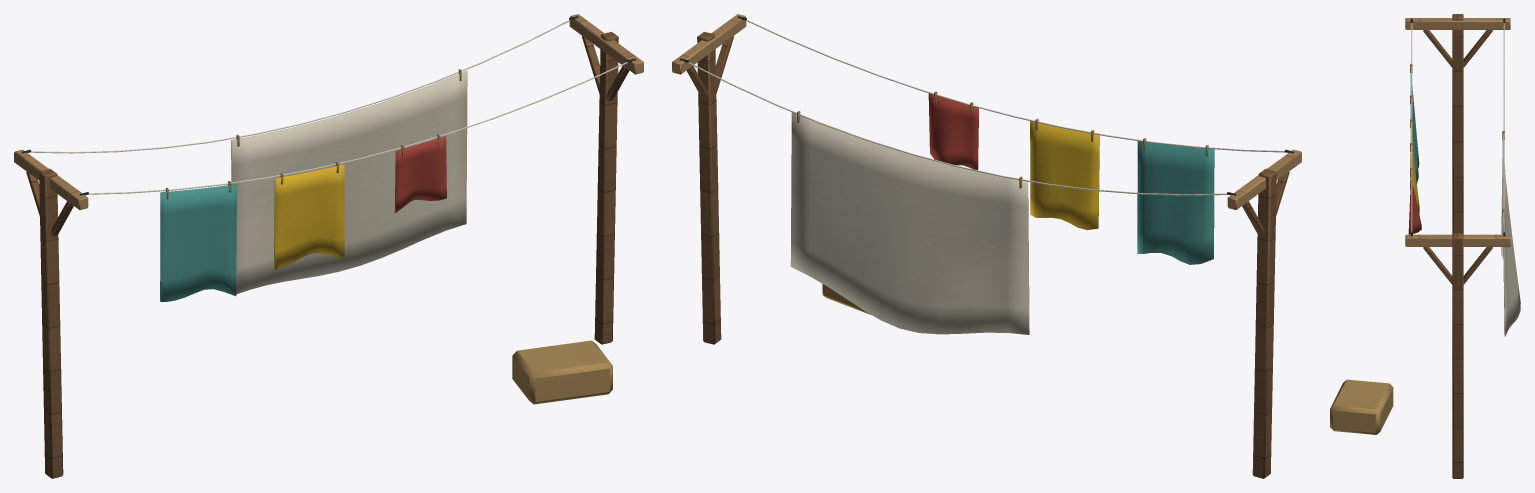
The model's file is washing_line.glb.
The picture shows the model from 3 angles, left to right: view 1: azimuth 30°, elevation 25°; view 2: azimuth 150°, elevation 25°; view 3: azimuth 270°, elevation 25°; orthographic projection. The views are drawn at different scales.
Visible parts, largest first — view 1: washing_line; view 2: washing_line; view 3: washing_line.
Part boxes in pixels (box(x1,y1,x2,y2)): washing_line: box(14, 14, 643, 478); washing_line: box(672, 14, 1301, 478); washing_line: box(1330, 14, 1520, 478).
Size of the model in its own units: 4.13 by 2.1 by 1.49.
11 materials, 11 textured.
